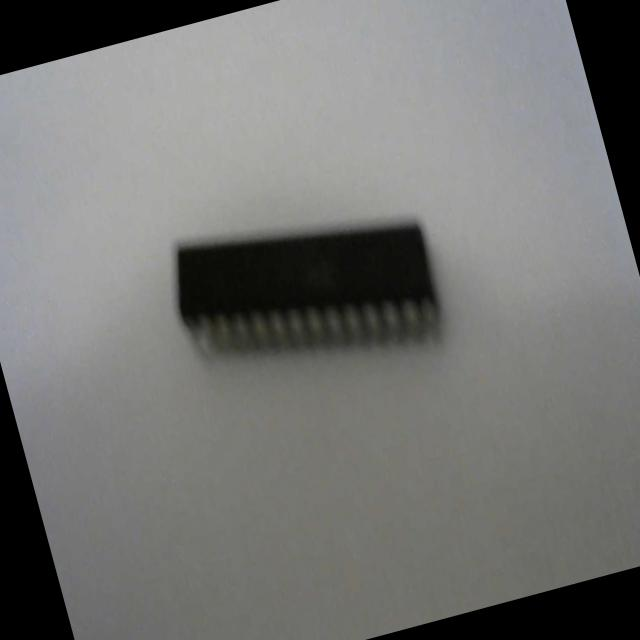atmega: (158, 174, 454, 407)
